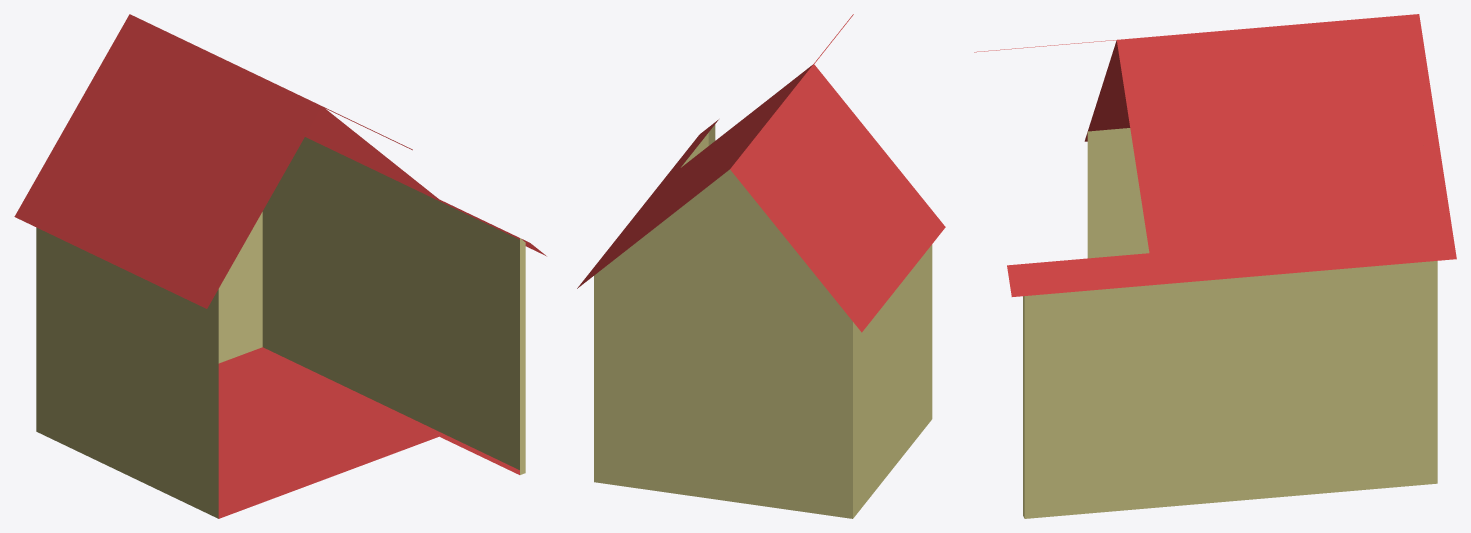
3 views of the same model, side by side, from view 1: azimuth 30°, elevation 25°; view 2: azimuth 150°, elevation 25°; view 3: azimuth 270°, elevation 25° (orthographic). The views are drawn at different scales.
Bounding box in the file's own units: 13.24 × 14.67 × 13.29.
